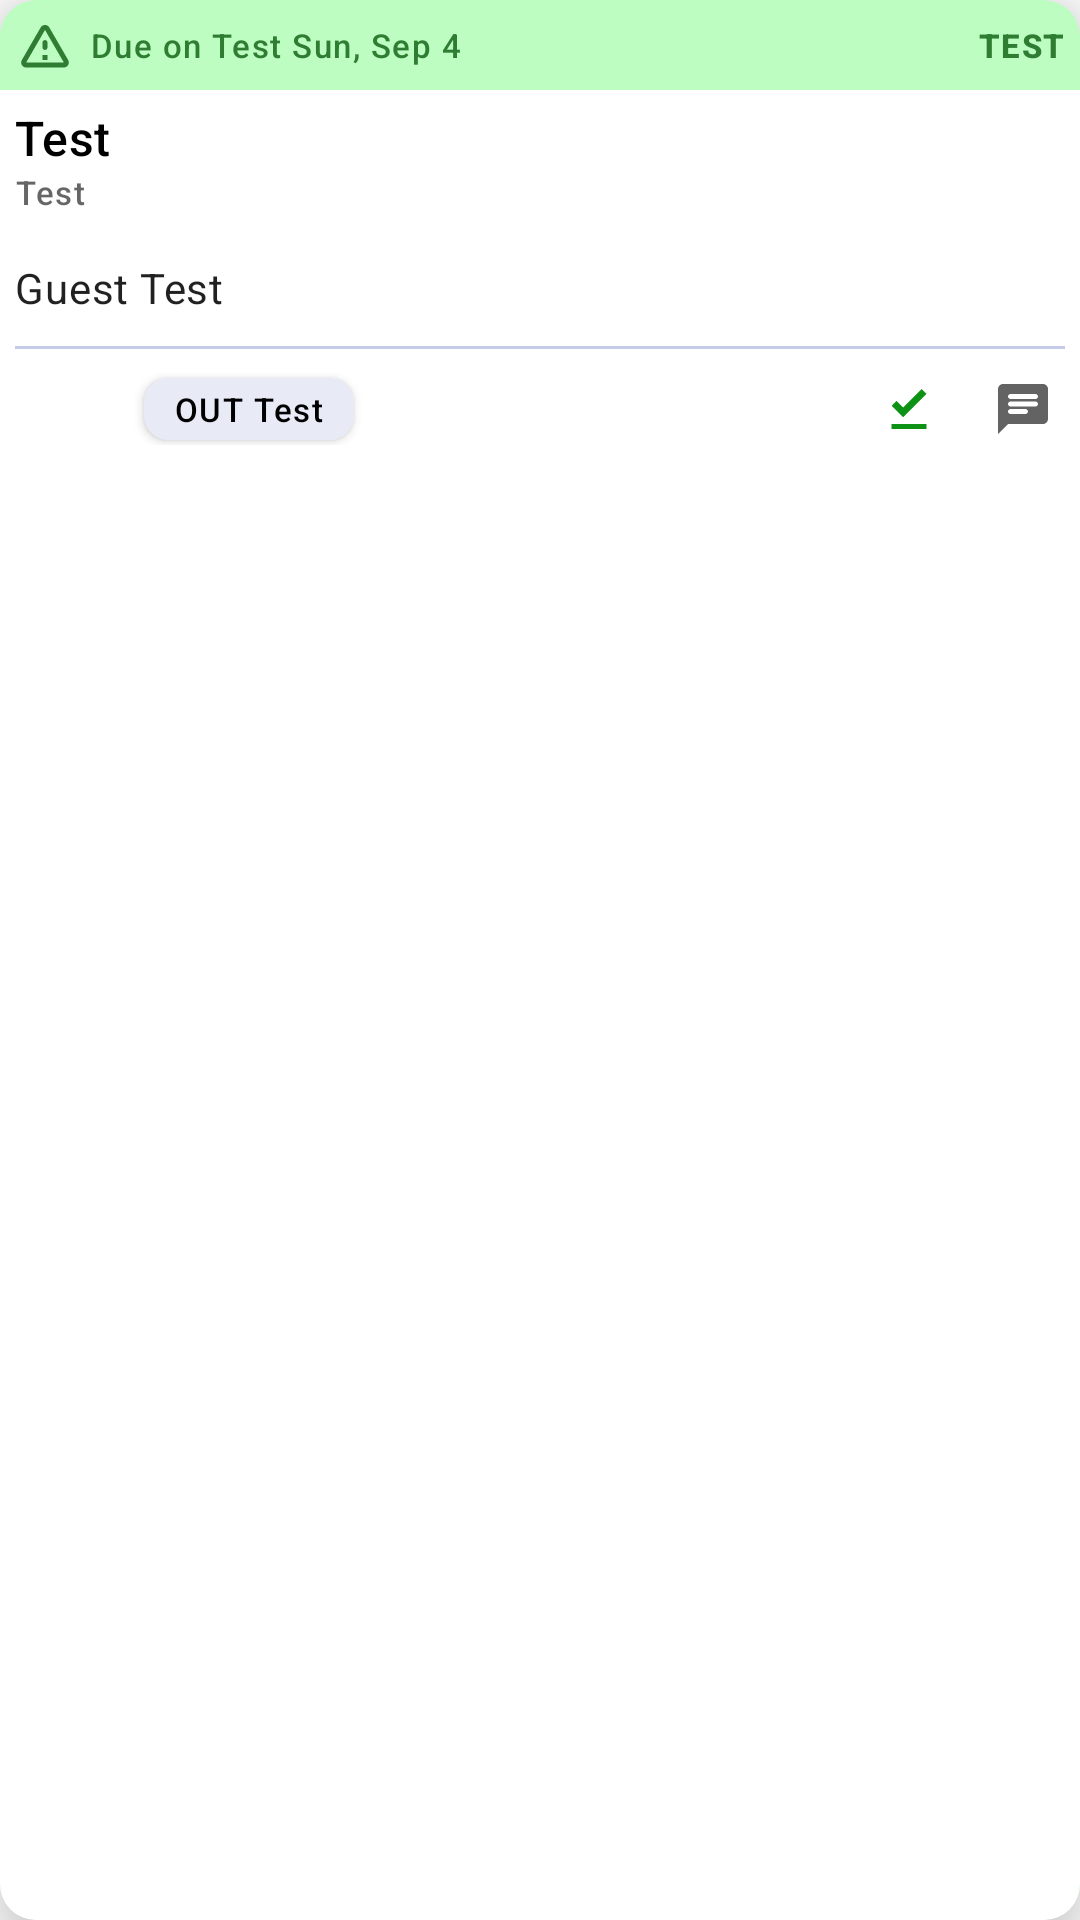

Icons on this 1080x1920 Android screen, each with its box as (x1, y1, x2, y2):
chat: (998, 384, 1048, 434)
download done: (891, 389, 927, 429)
warning amber: (21, 25, 69, 68)
